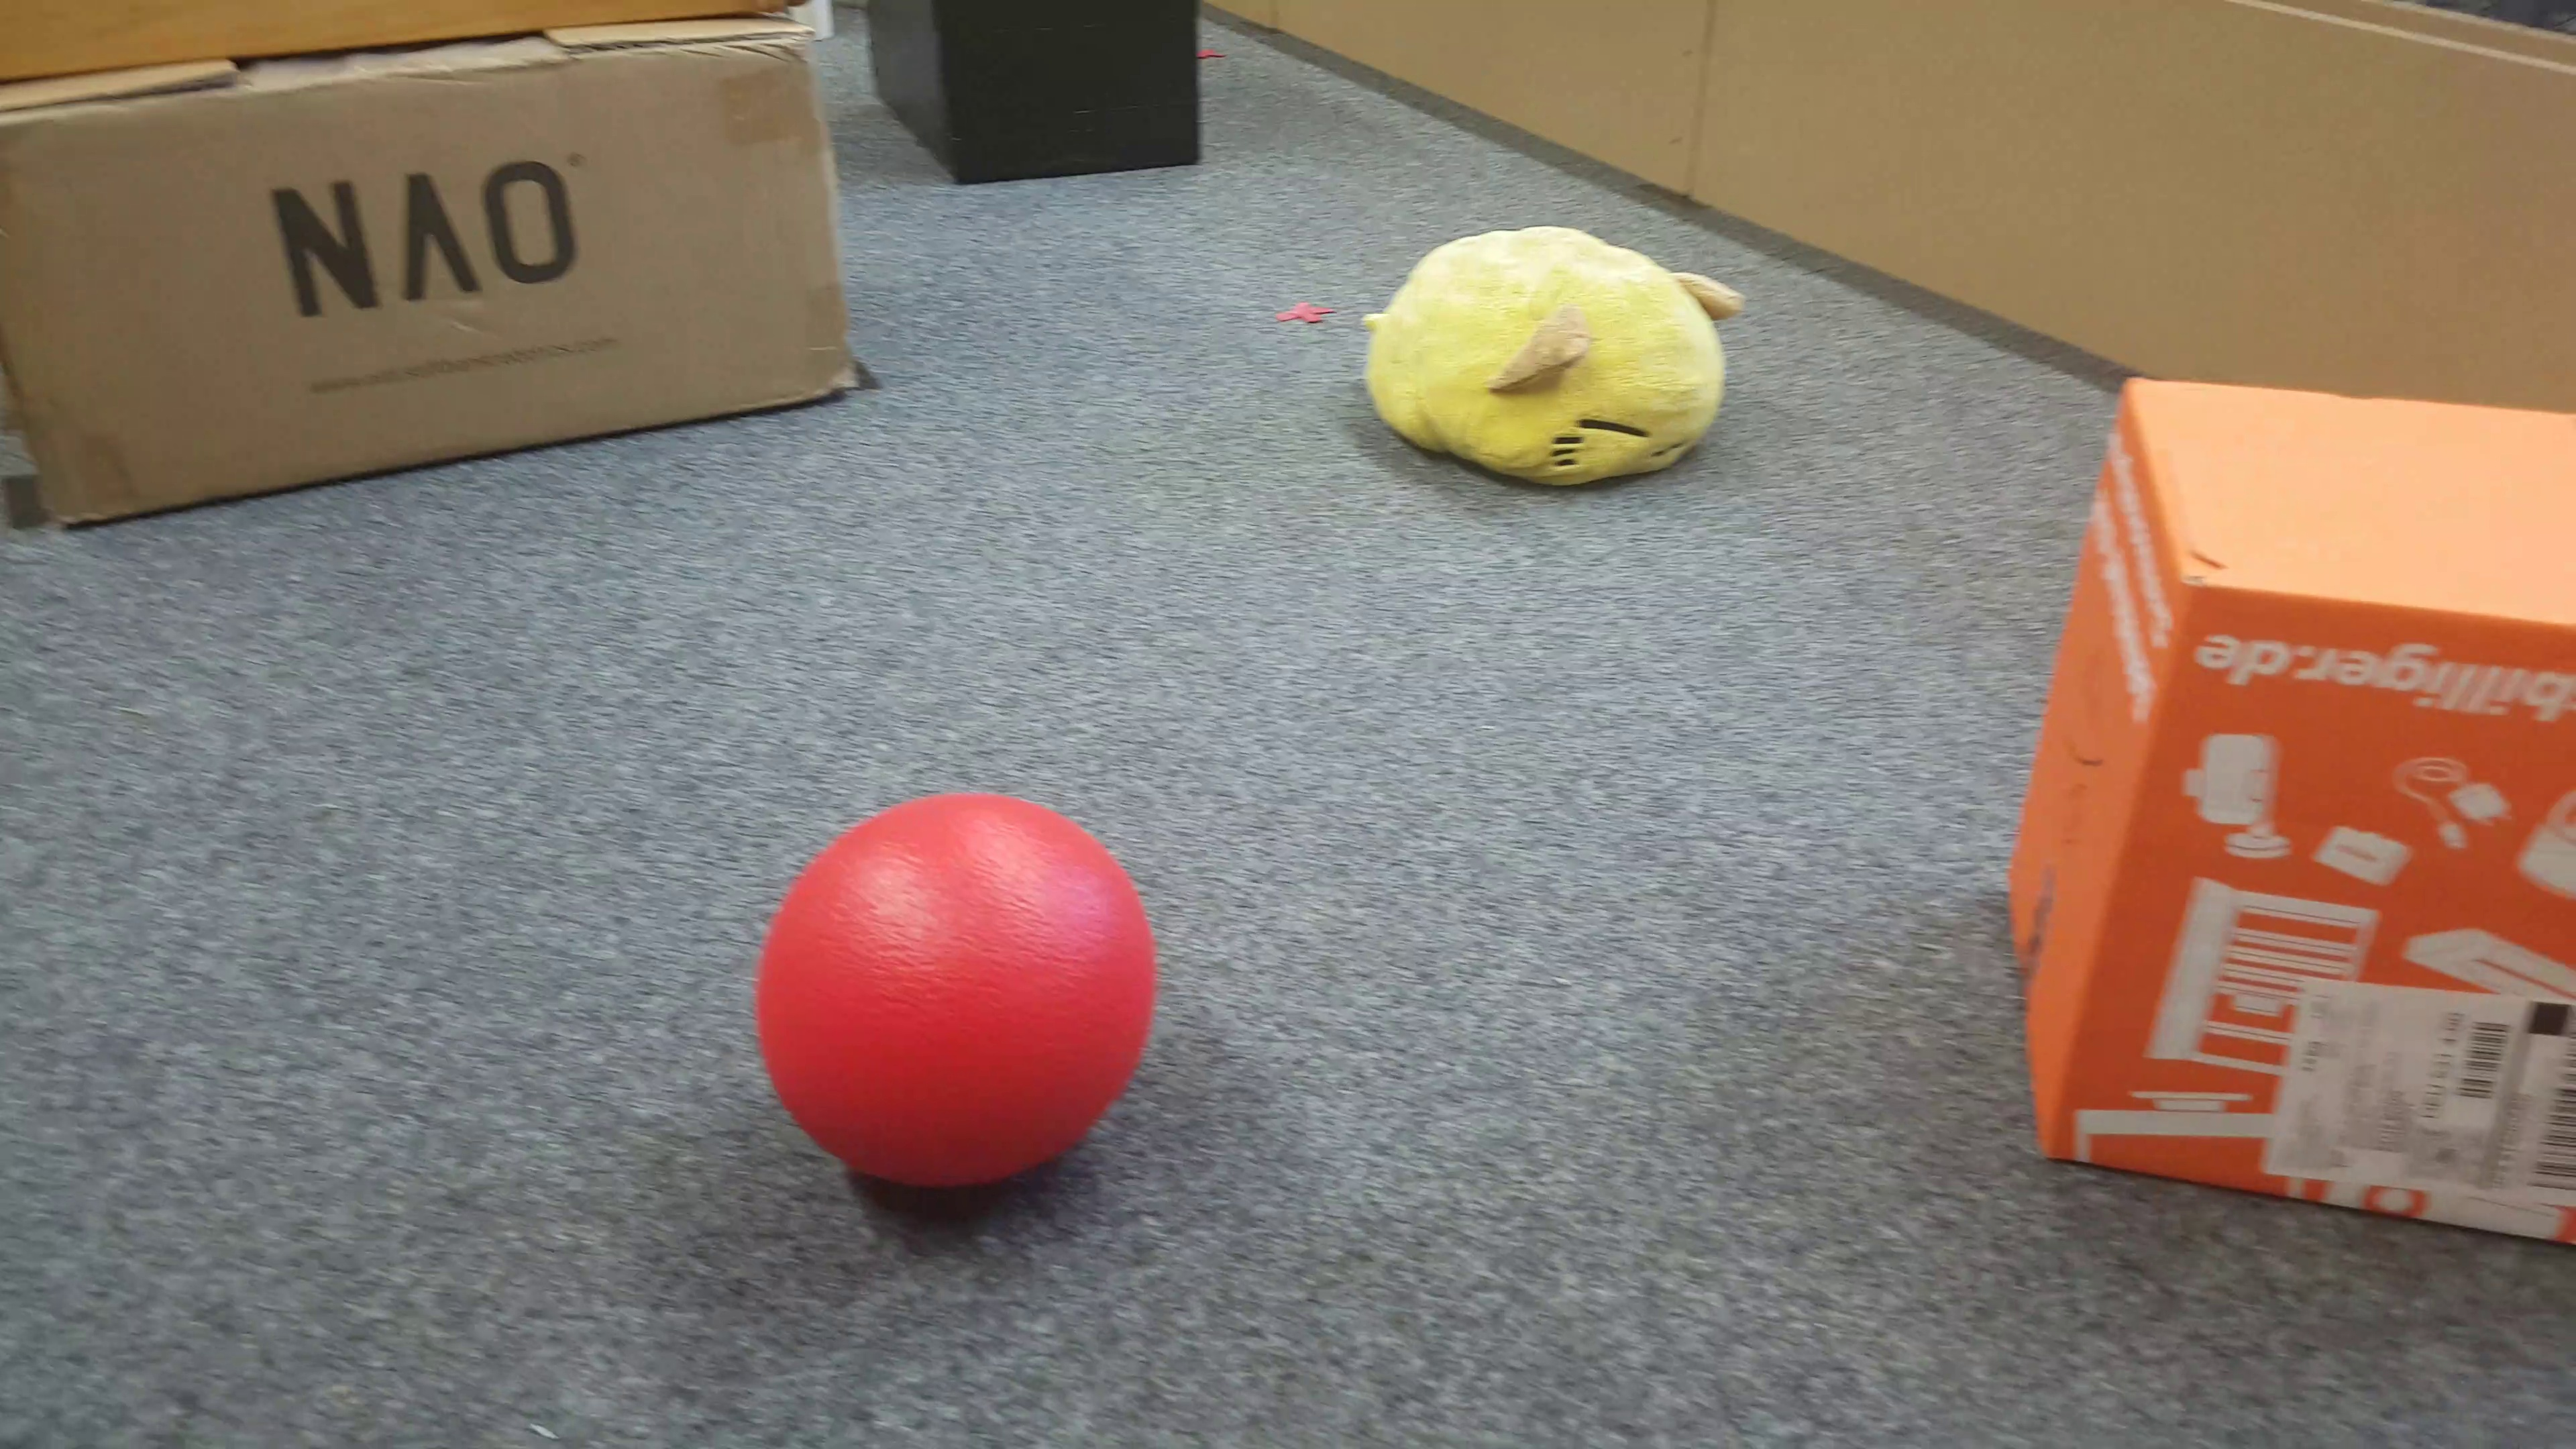grasp: (1369, 221, 1752, 499)
kick: (750, 789, 1159, 1203)
push: (2001, 373, 2576, 1244), (865, 0, 1208, 193)
